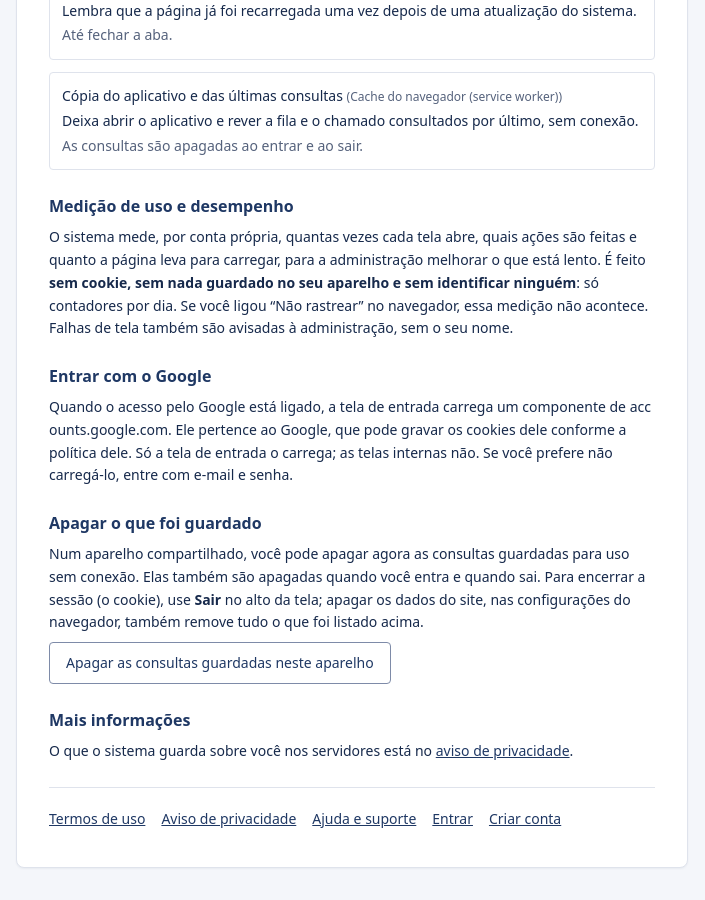
Test: Cookies e armazenamento › o controle apaga as consultas guardadas no aparelho e confirma
(page scrolled)
Expected: the text "foram apagadas" is not shown
What coordinates should you click on to do the following:
click the button "Apagar as consultas guardadas neste aparelho"
I would click on:
 (220, 663)
Its box is [49, 642, 391, 684].
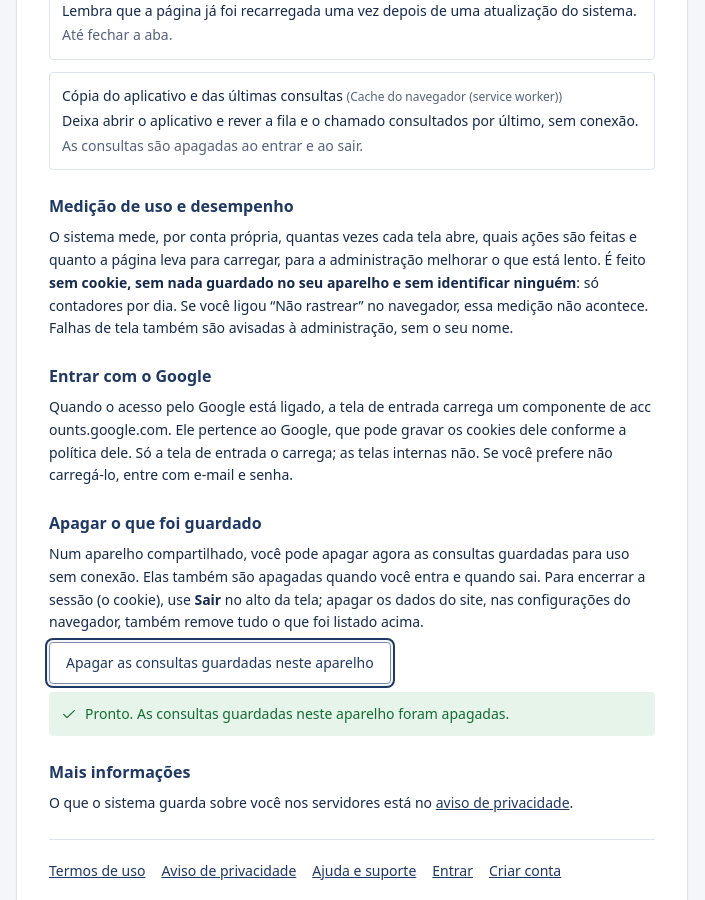
Expected: the text "foram apagadas" is shown, [85, 704, 509, 723]
Expected: the text "Pronto. As consultas guardadas neste aparelho foram apagadas." is shown, [49, 692, 655, 736]
